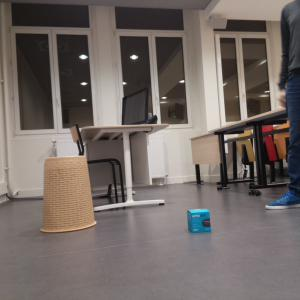medium: (41, 157, 96, 233)
small: (187, 208, 211, 234)
